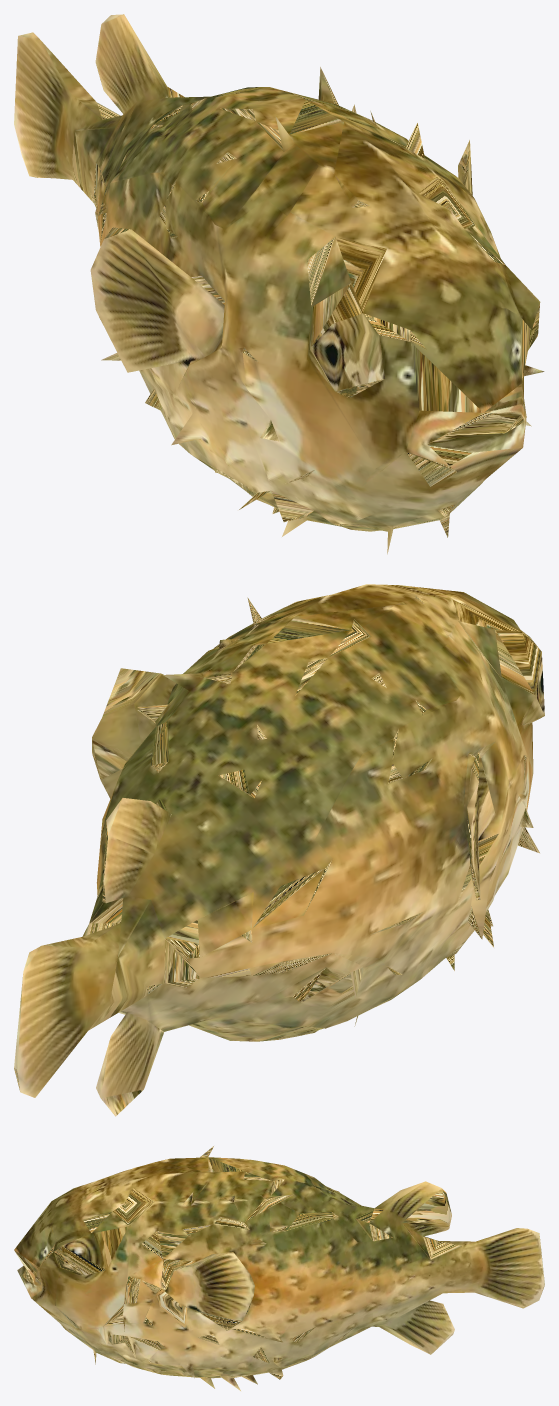
Rendered from golden-puffer.glb.
The picture shows the model from 3 angles, top to bottom: view 1: azimuth 30°, elevation 25°; view 2: azimuth 150°, elevation 25°; view 3: azimuth 270°, elevation 25°; orthographic projection. The views are drawn at different scales.
Visible parts, largest first — view 1: golden-puffer; view 2: golden-puffer; view 3: golden-puffer.
Boxes of the visible parts, <box> form: golden-puffer: <box>14,14,544,554</box>; golden-puffer: <box>14,584,544,1116</box>; golden-puffer: <box>14,1146,544,1390</box>.
Bounding box in the file's own units: 0.4512 × 0.4661 × 1.
1 material, 1 textured.
